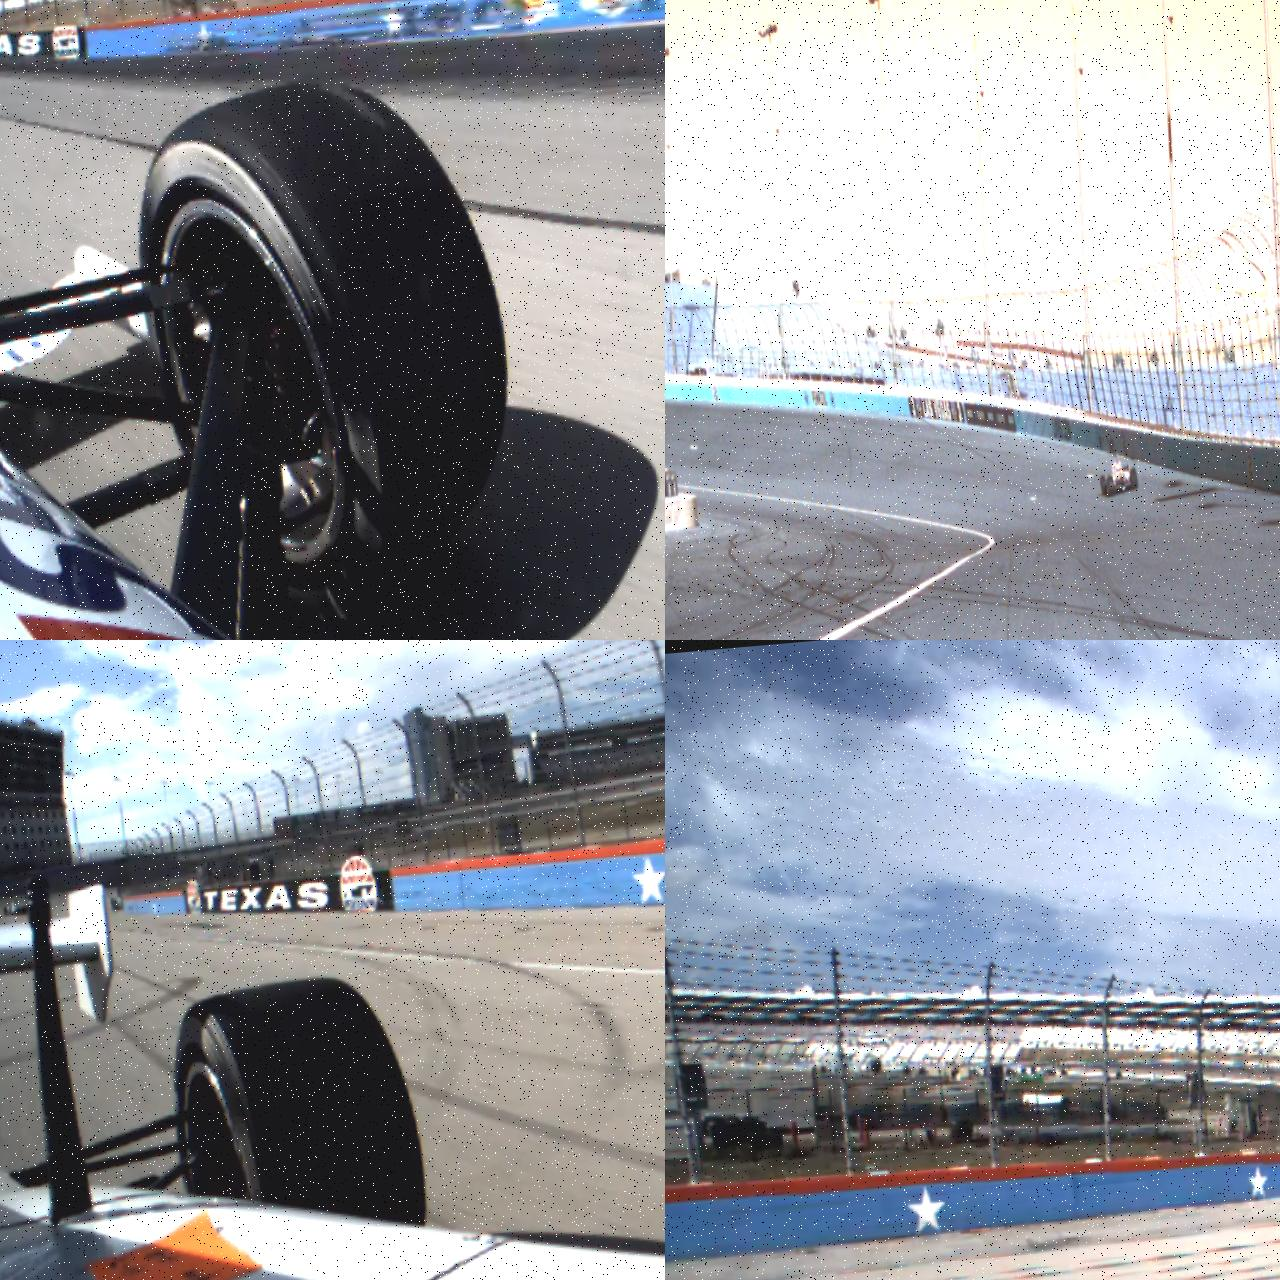AV: (1097, 449, 1138, 497), (2, 899, 28, 919)
Wheel: (124, 64, 530, 633), (164, 969, 430, 1255), (1130, 468, 1138, 489), (1107, 476, 1115, 495), (1099, 476, 1107, 495)
